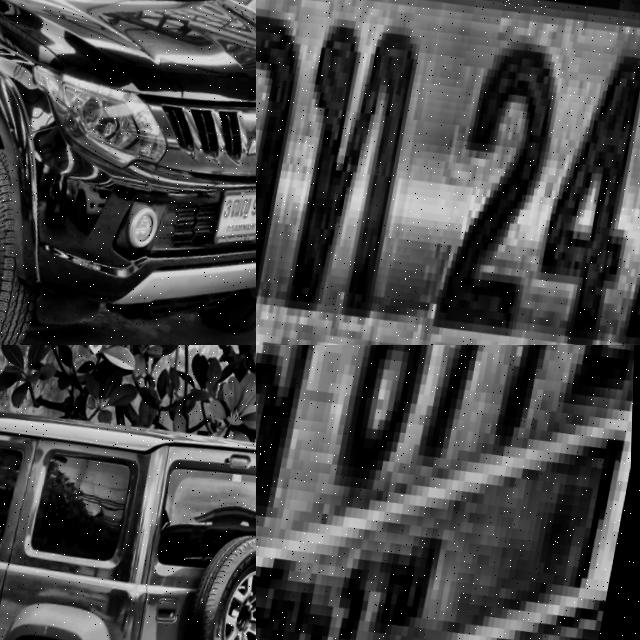license-plate: (256, 0, 640, 345), (256, 345, 640, 640), (211, 183, 256, 262)
